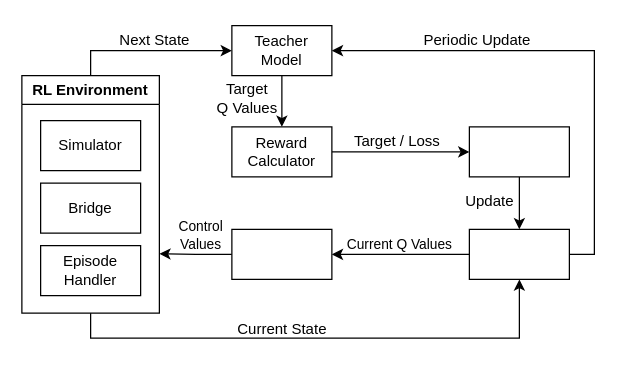
Image size: 626x370. Some labels were removed from this diagram. Here are the shapes that lost their labels. From the top down, the centre of each, then its label:
(x=518, y=151): Trainer
(x=281, y=253): Action Selector
(x=518, y=253): Student Model
